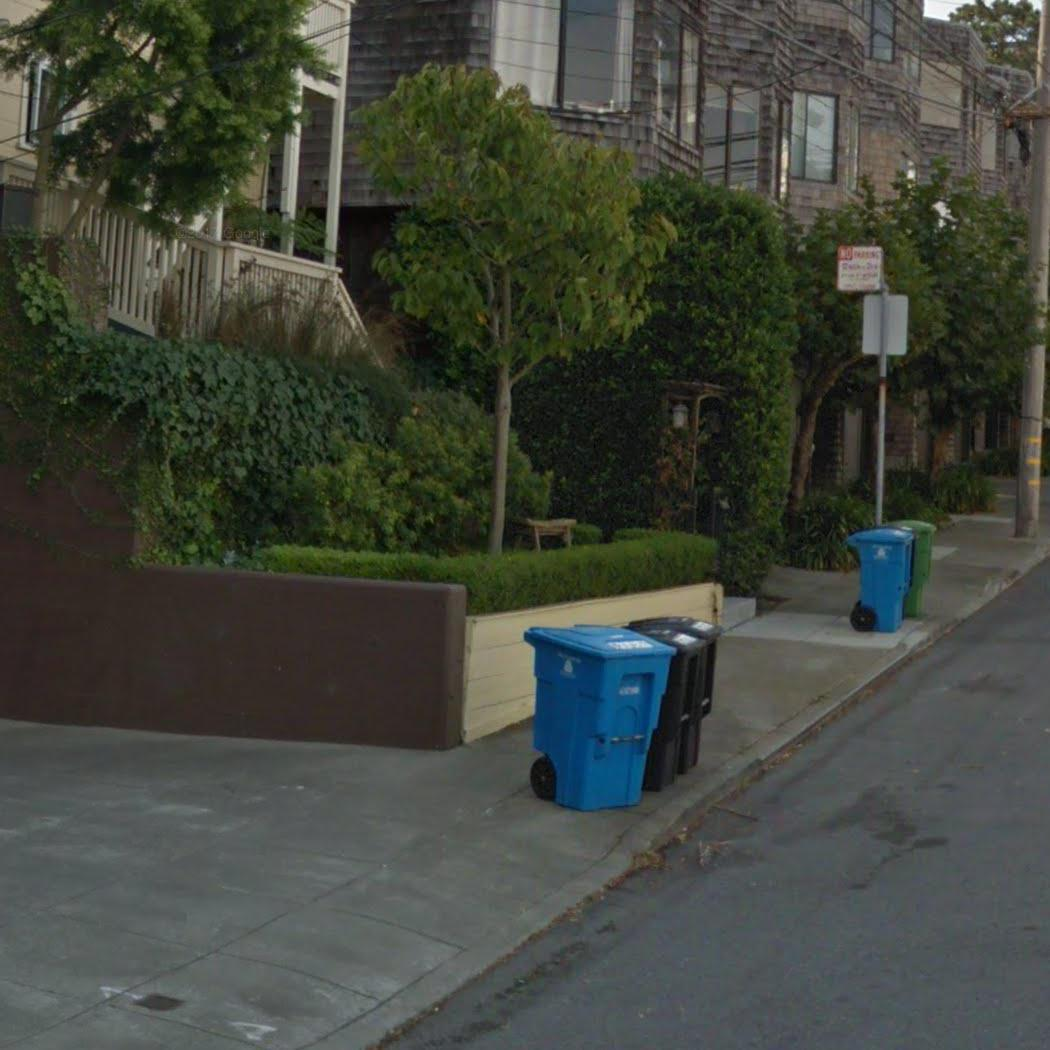No Parking: (836, 245, 884, 291)
